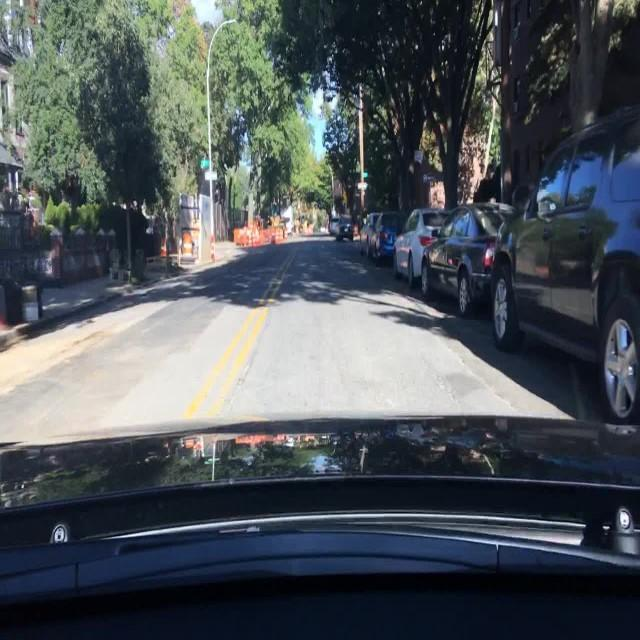normal: (490, 105, 640, 425), (424, 200, 519, 316), (394, 204, 454, 286), (364, 210, 402, 263)
